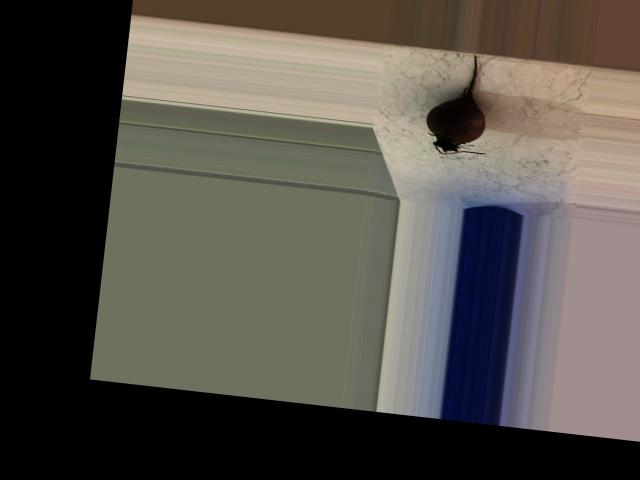beet: (423, 50, 497, 159)
